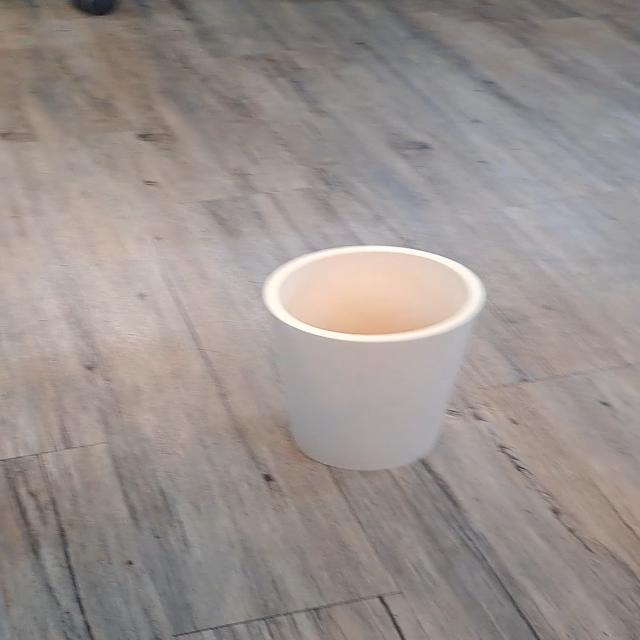CORAL: (232, 218, 516, 500)
